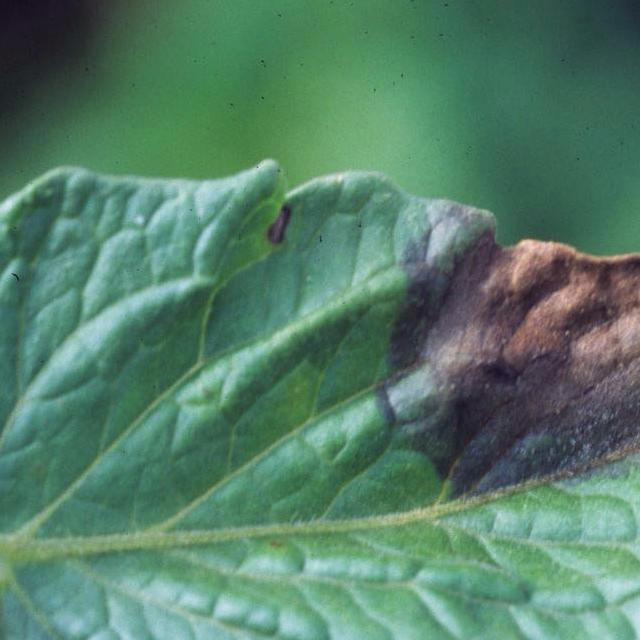Tomato leaf late blight: (0, 116, 640, 640)
